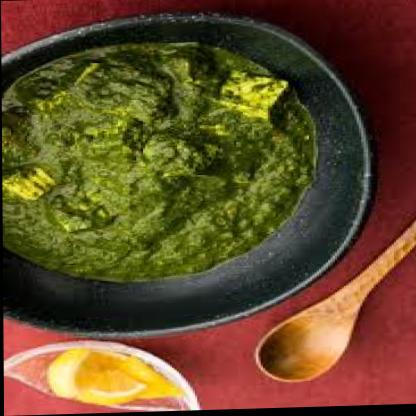palak_paneer: (1, 39, 316, 284)
